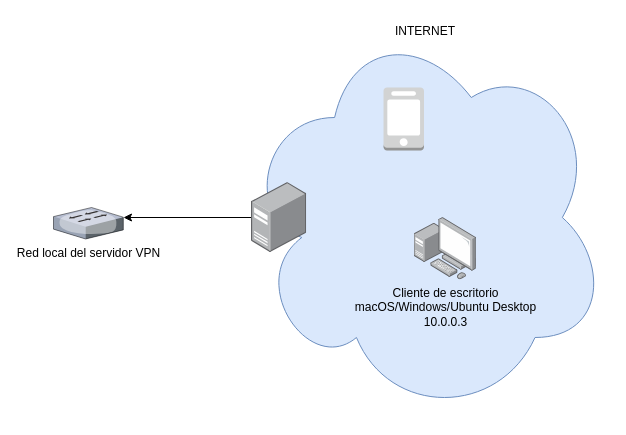
The diagram is 626 pixels wide and 435 high, and some of its shapes have lost their labels. The centre of each missing label's shape, as x and y in pixels:
"Cliente móvil iOS/Android 10.0.0.2" goes at point (403, 118).
"Servidor VPN Ubuntu Server 10.0.0.1" goes at point (278, 217).
